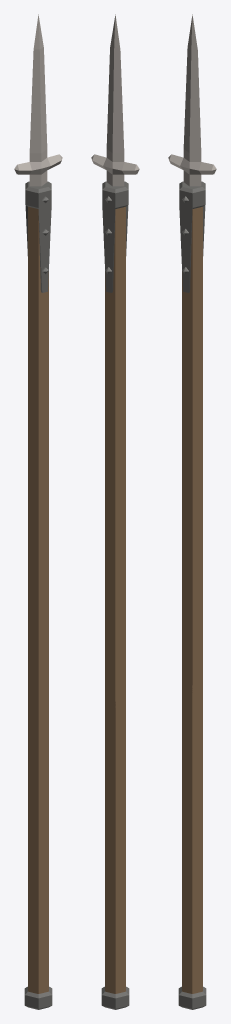
Rendered from SM_pwe_medieval_spear_01.fbx.
3 views of the same model, side by side, from view 1: azimuth 30°, elevation 25°; view 2: azimuth 150°, elevation 25°; view 3: azimuth 330°, elevation 25° (orthographic).
Visible parts, largest first — view 1: SM_pwe_medieval_spear_01; view 2: SM_pwe_medieval_spear_01; view 3: SM_pwe_medieval_spear_01.
Boxes of the visible parts, <box> form: SM_pwe_medieval_spear_01: <box>14,14,62,1009</box>; SM_pwe_medieval_spear_01: <box>91,14,139,1009</box>; SM_pwe_medieval_spear_01: <box>168,14,216,1009</box>.
Size of the model in its own units: 10.39 by 203 by 6.22.
